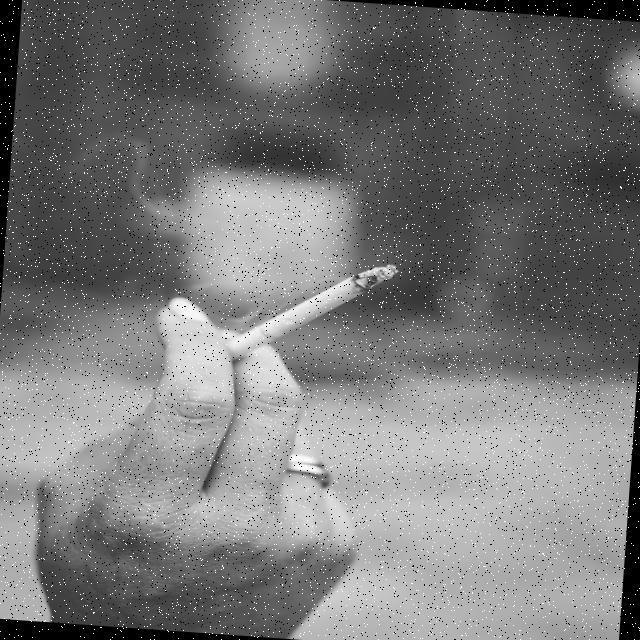cigarette: (228, 233, 412, 364)
